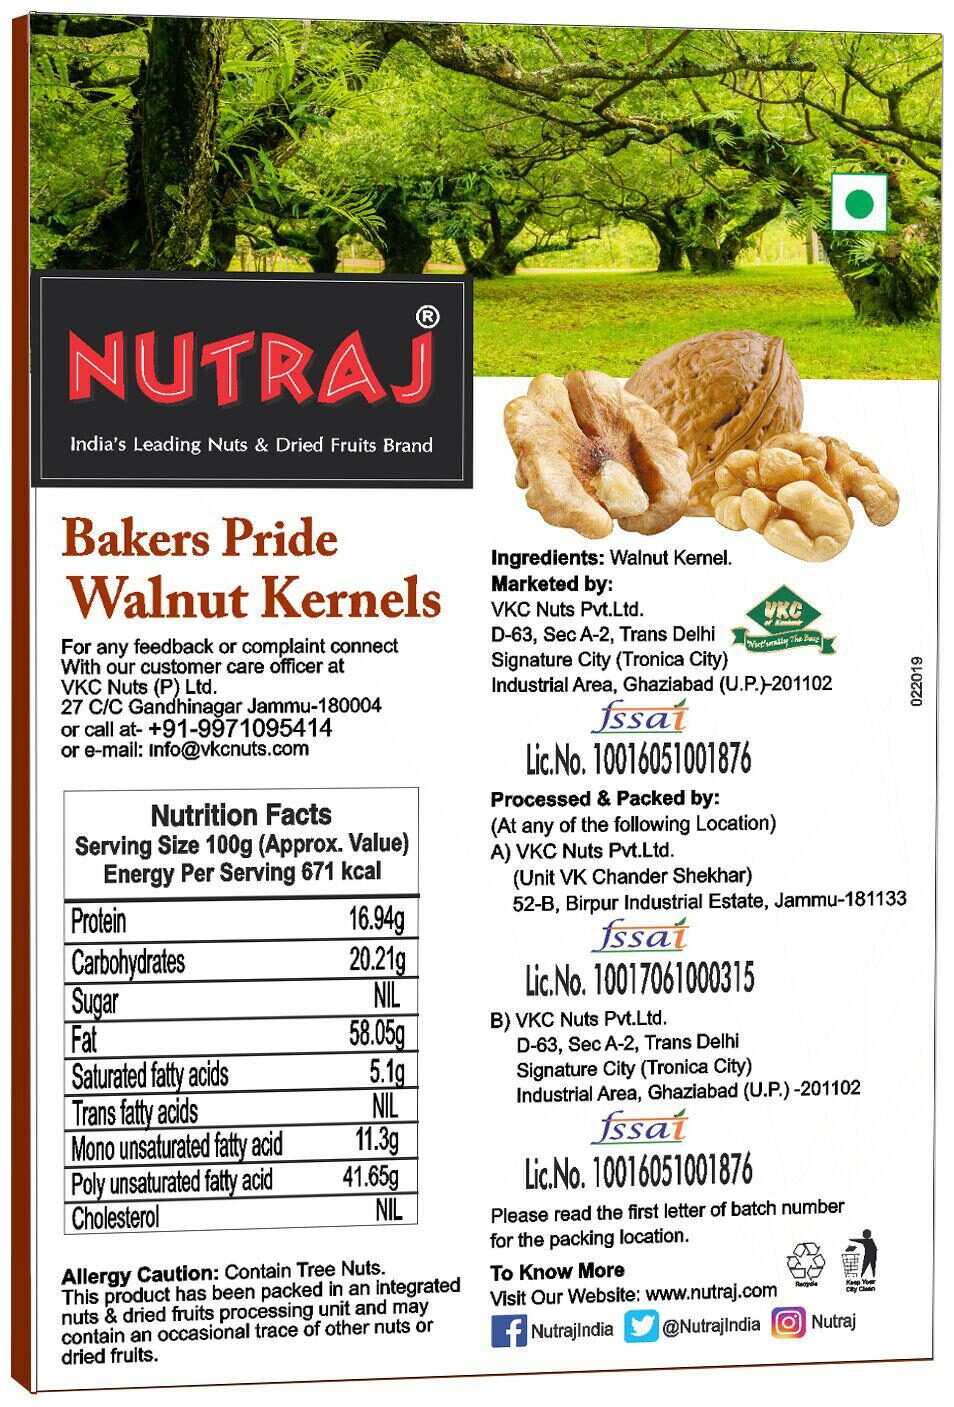fssai: (589, 1108, 690, 1145), (588, 916, 688, 954), (588, 698, 690, 734)
